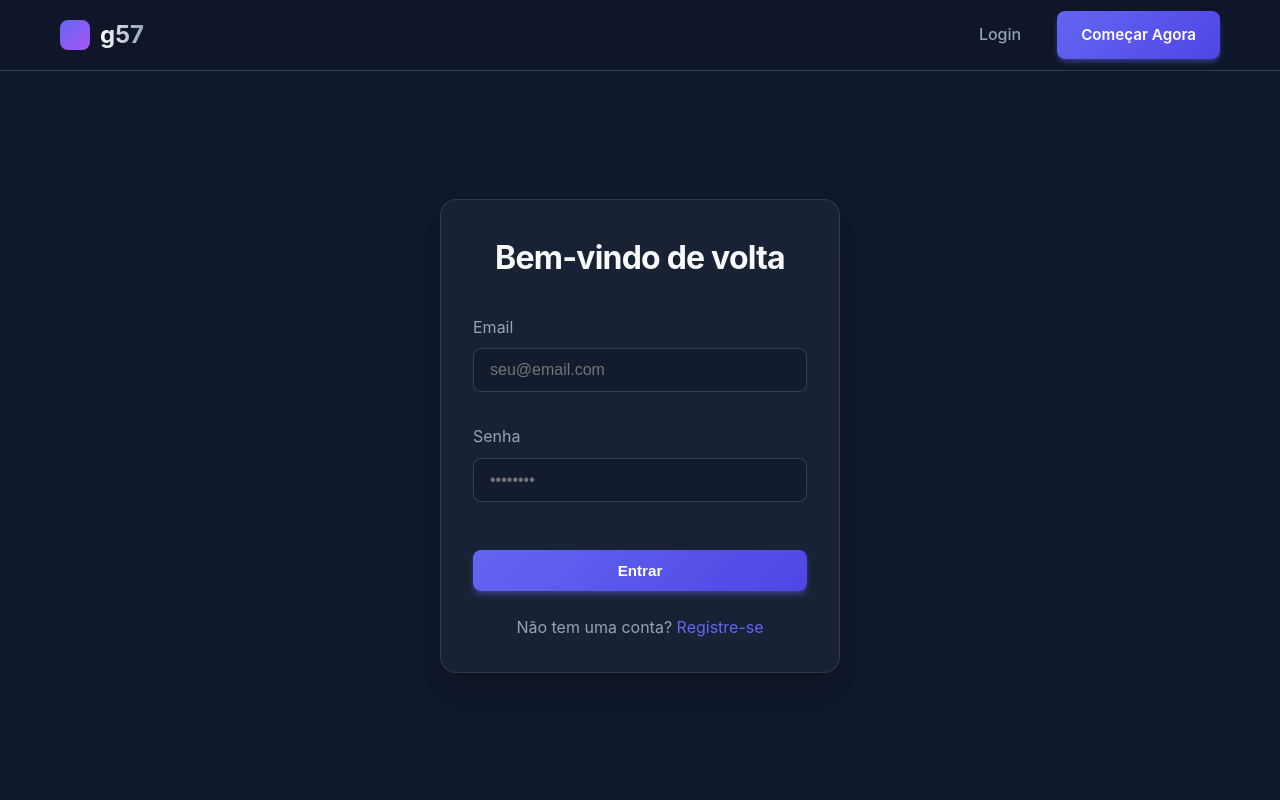
Test: LoginPage › shows error on failed login
Type "a@b.com" into the field with placeholder "seu@email.com" at (640, 370), box left=473, top=348, right=807, bottom=392
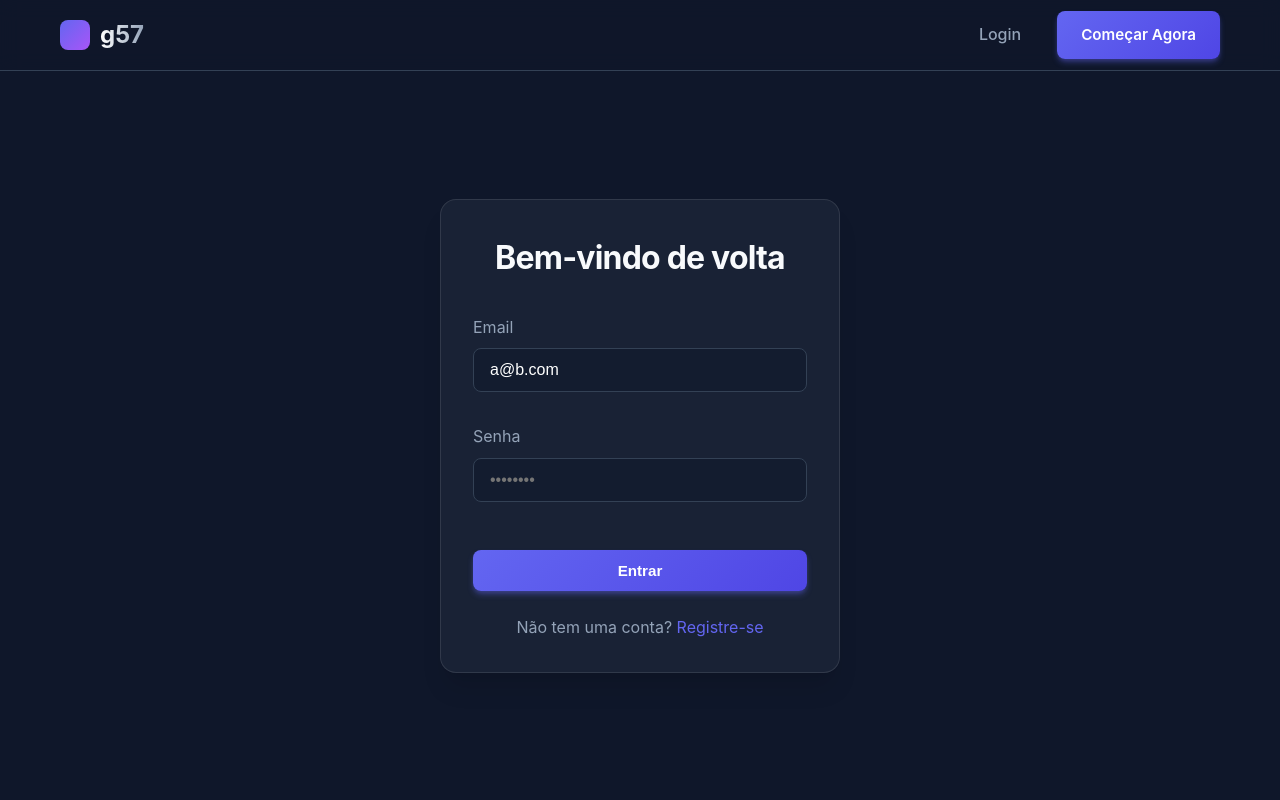
Type "wrong" into the password field with placeholder "••••••••" at (640, 480), box left=473, top=458, right=807, bottom=502
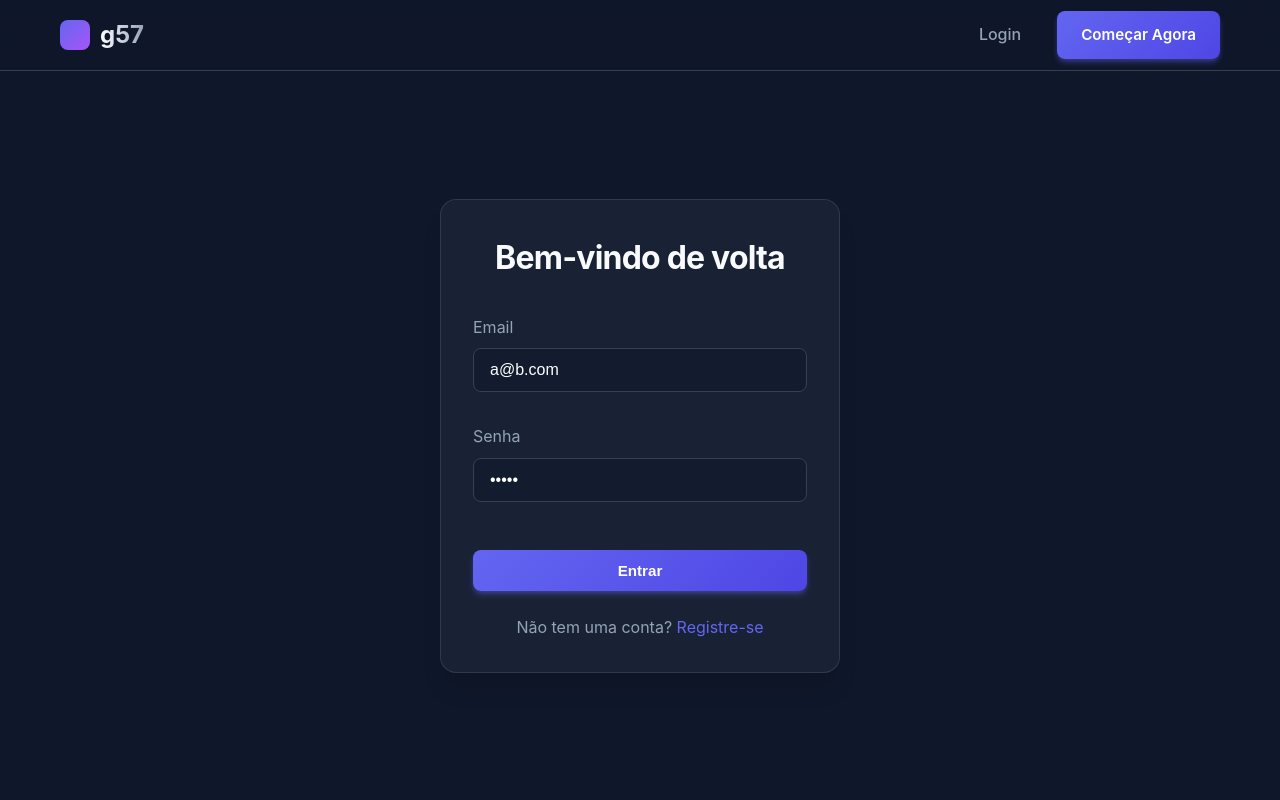
Submit the form from the button "Entrar", box left=473, top=550, right=807, bottom=591
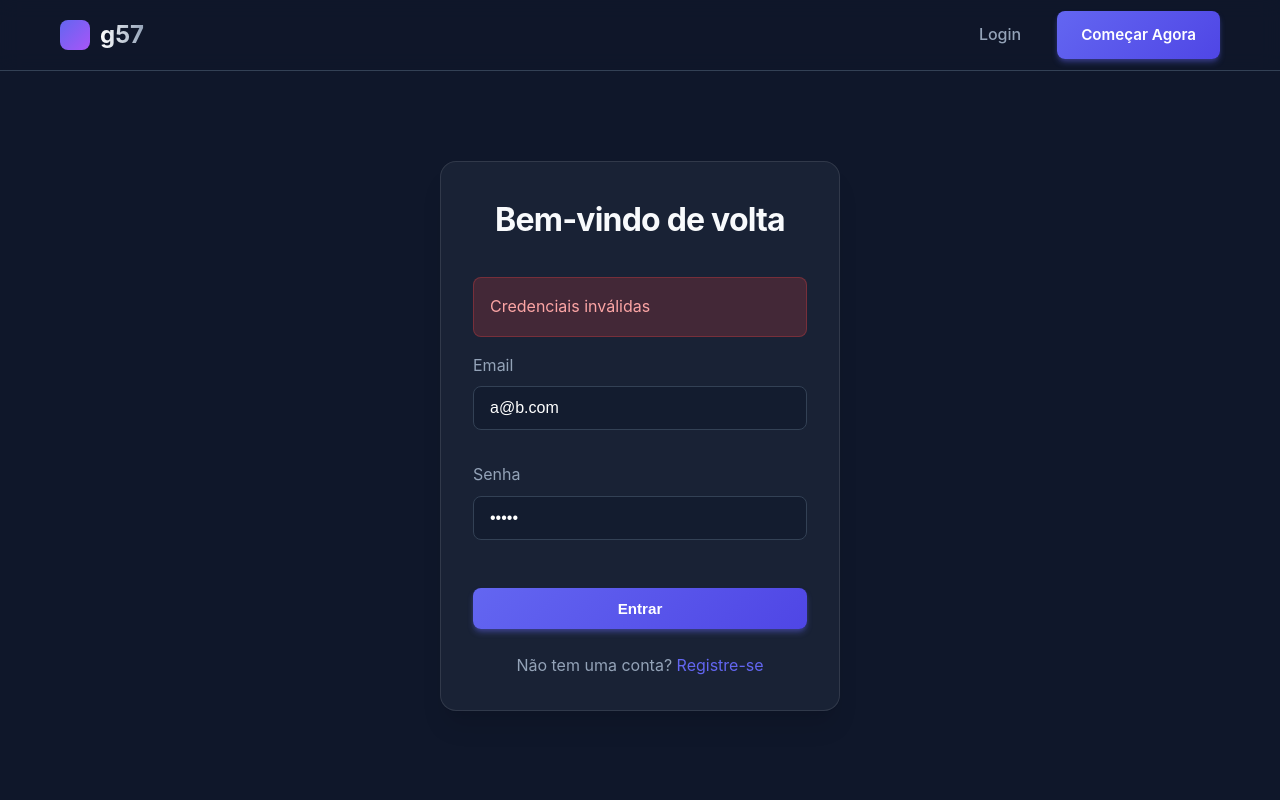
Result: the text "Credenciais inválidas" is shown at left=473, top=277, right=807, bottom=336
